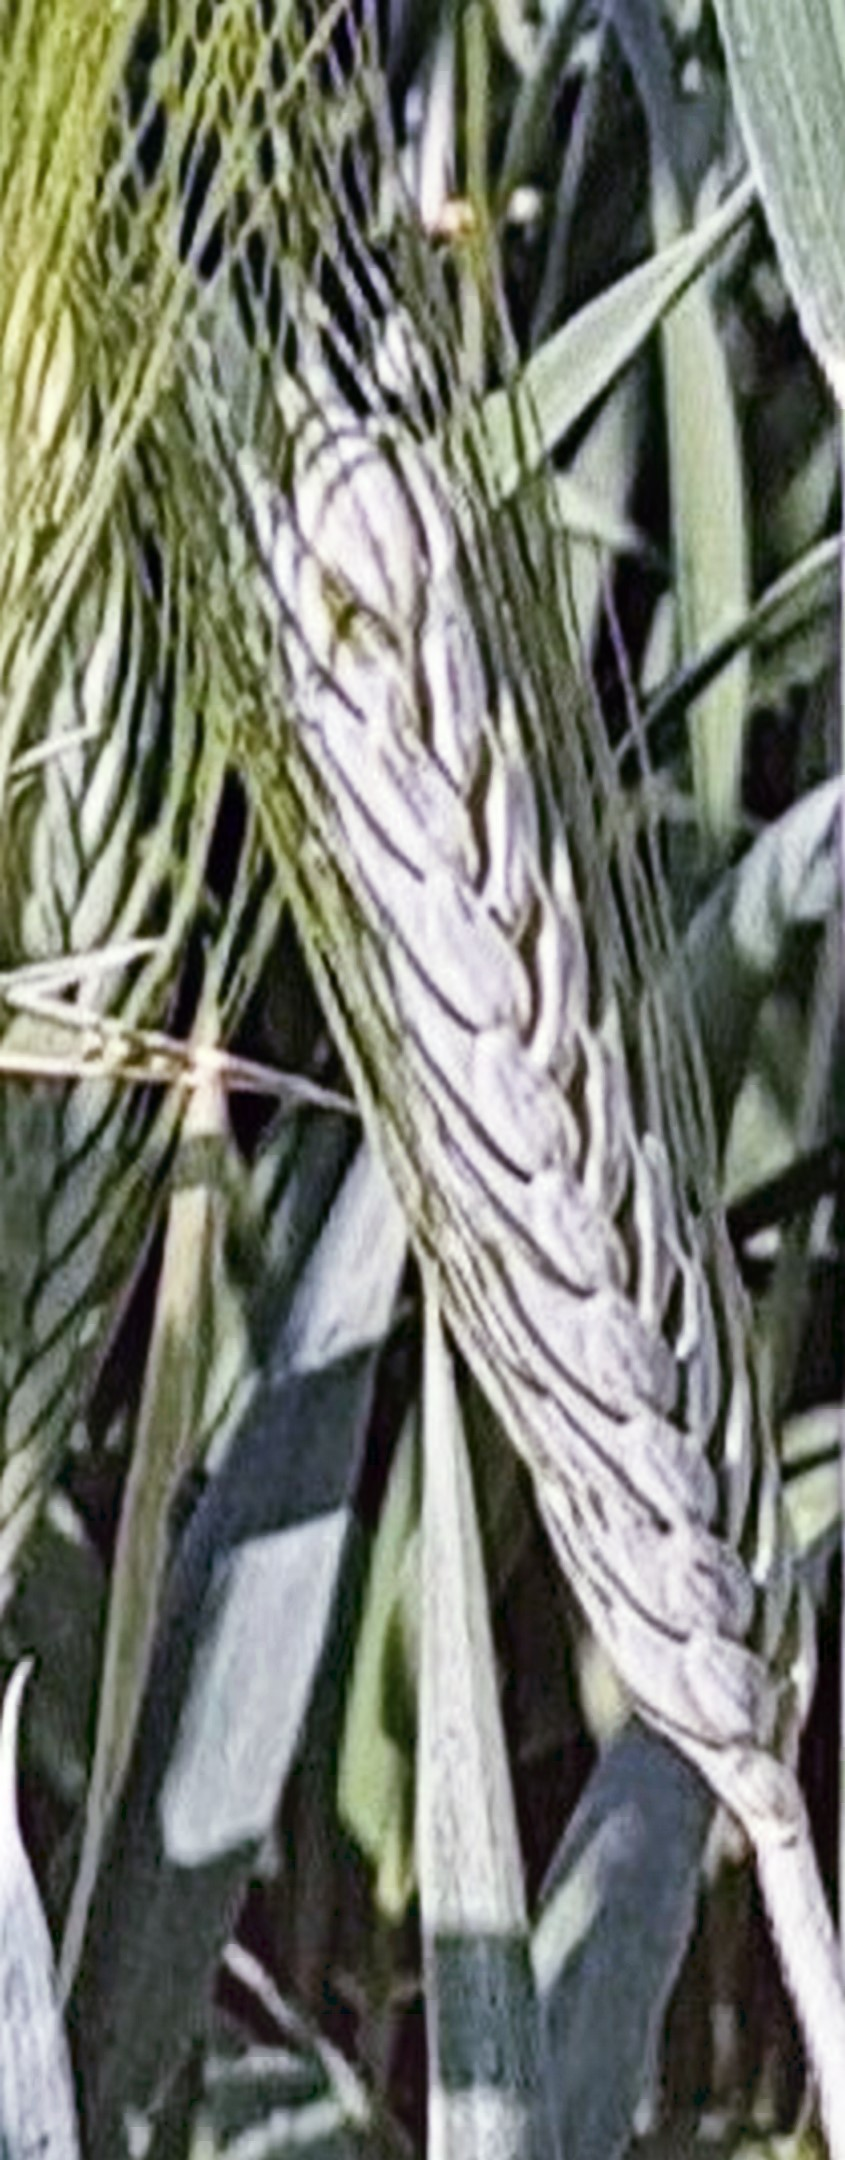Healthy Wheat: (167, 398, 845, 1777)
